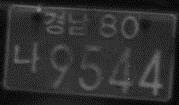0: (120, 15, 139, 40)
4: (108, 46, 136, 94), (138, 48, 163, 96)
5: (76, 43, 104, 90)
8: (99, 12, 117, 39)
9: (48, 43, 76, 89)
경남_O: (44, 12, 90, 37)
나: (13, 39, 40, 73)
